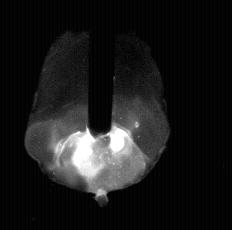arame: (88, 0, 113, 138)
poca: (24, 0, 167, 230)
